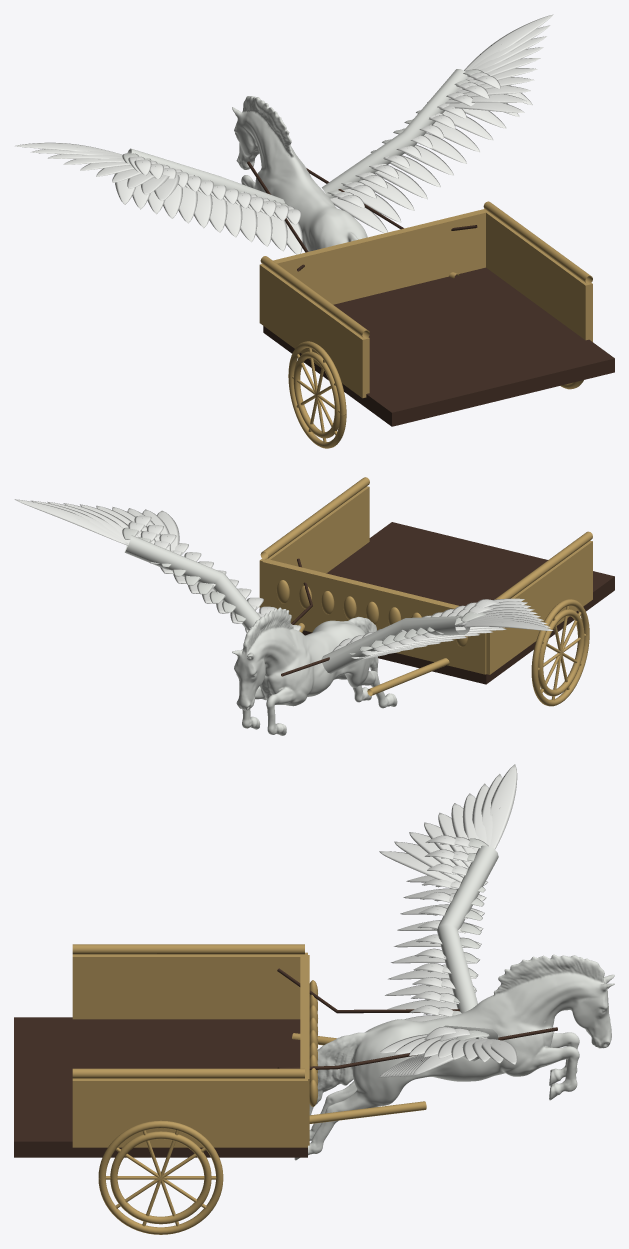
File: pegasus_chariot.glb
The picture shows the model from 3 angles, top to bottom: view 1: azimuth 30°, elevation 25°; view 2: azimuth 150°, elevation 25°; view 3: azimuth 270°, elevation 25°; orthographic projection. The views are drawn at different scales.
Visible parts, largest first — view 1: Deck, FrontShield, Horse_16272_Hanoverian_Horse_Jumping_V1, SidePanel.001, SidePanel, WingLeadingEdge.001, WheelRim, WheelRim.001, TopRail, TopRail.001, WingLeadingEdge, PrimaryFlightFeather.019 (+2 smaller); view 2: Deck, Horse_16272_Hanoverian_Horse_Jumping_V1, FrontShield, SidePanel, SidePanel.001, WingLeadingEdge.001, WingLeadingEdge, WheelRim, WheelRim.001, TopRail.001, TopRail, PrimaryFlightFeather.019 (+2 smaller); view 3: Deck, Horse_16272_Hanoverian_Horse_Jumping_V1, SidePanel.001, SidePanel, WingLeadingEdge, WheelRim.002, TopRail, TopRail.001, WheelRim.003, PrimaryFlightFeather.009, FrontShield, Shaft.001 (+2 smaller).
Boxes of the visible parts, x1,y1,x2,y2 form: Deck: [263, 267, 614, 426]; FrontShield: [273, 209, 485, 304]; Horse_16272_Hanoverian_Horse_Jumping_V1: [232, 96, 367, 251]; SidePanel.001: [483, 209, 592, 341]; SidePanel: [259, 264, 369, 398]; WingLeadingEdge.001: [322, 69, 469, 198]; WheelRim: [288, 341, 346, 448]; WheelRim.001: [293, 351, 339, 438]; TopRail: [260, 256, 369, 338]; TopRail.001: [483, 201, 592, 283]; WingLeadingEdge: [127, 148, 284, 203]; PrimaryFlightFeather.019: [464, 14, 553, 70]; Deck: [302, 522, 614, 684]; Horse_16272_Hanoverian_Horse_Jumping_V1: [232, 607, 397, 735]; FrontShield: [262, 559, 486, 674]; SidePanel: [486, 540, 592, 674]; SidePanel.001: [259, 486, 369, 607]; WingLeadingEdge.001: [124, 535, 260, 630]; WingLeadingEdge: [321, 616, 470, 673]; WheelRim: [531, 599, 589, 706]; WheelRim.001: [538, 609, 584, 696]; TopRail.001: [260, 477, 369, 559]; TopRail: [495, 531, 592, 599]; PrimaryFlightFeather.019: [14, 499, 127, 545]; Deck: [14, 1017, 307, 1157]; Horse_16272_Hanoverian_Horse_Jumping_V1: [294, 954, 614, 1160]; SidePanel.001: [72, 1077, 307, 1147]; SidePanel: [72, 952, 307, 1019]; WingLeadingEdge: [436, 845, 498, 1013]; WheelRim.002: [98, 1120, 223, 1234]; TopRail: [72, 944, 304, 954]; TopRail.001: [72, 1068, 304, 1078]; WheelRim.003: [110, 1131, 211, 1224]; PrimaryFlightFeather.009: [490, 764, 517, 849]; FrontShield: [300, 955, 309, 1145]; Shaft.001: [309, 1101, 426, 1123].
Bounding box in the file's own units: 4.84 × 1.89 × 4.09.
